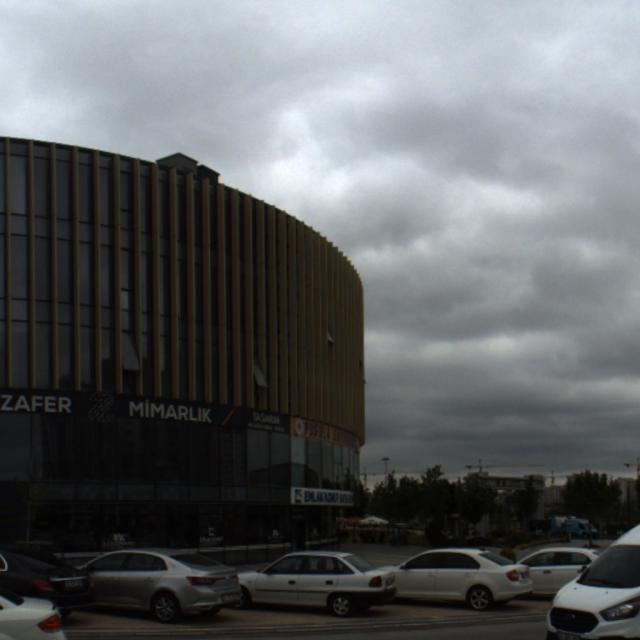SignStore: (292, 487, 354, 505)
